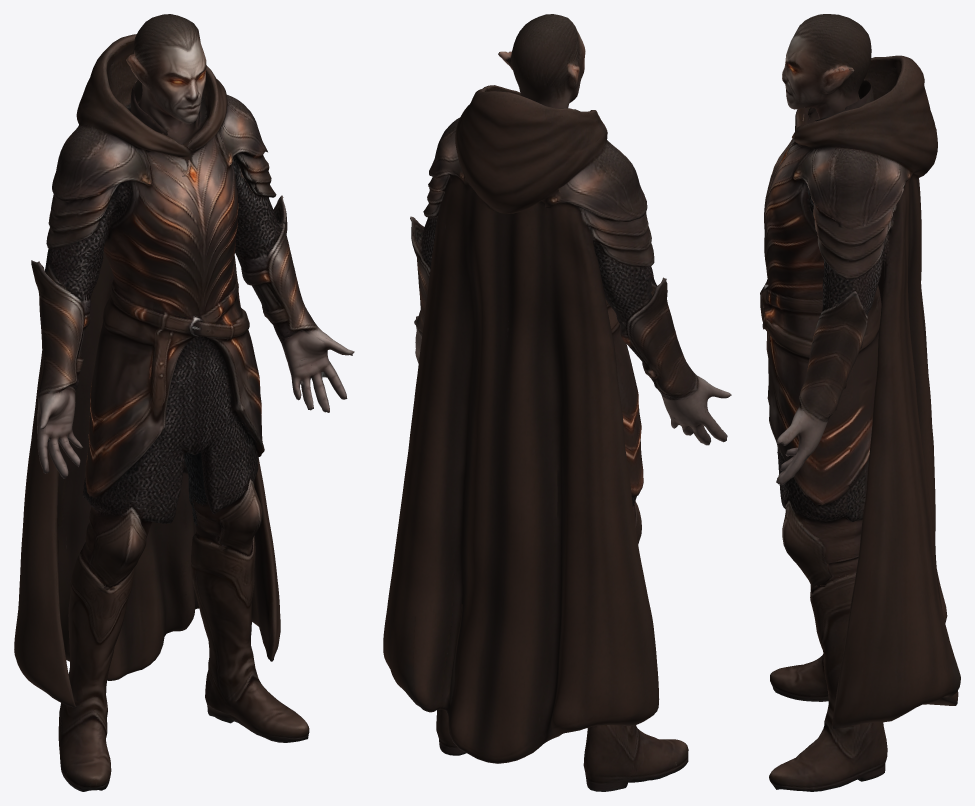
Rendered from kiln-warden-v3-weaponless.glb.
The picture shows the model from 3 angles, left to right: view 1: azimuth 30°, elevation 25°; view 2: azimuth 150°, elevation 25°; view 3: azimuth 270°, elevation 25°; orthographic projection.
Parts seen in each view (by area): view 1: mesh_node; view 2: mesh_node; view 3: mesh_node.
Boxes of the visible parts, x1,y1,x2,y2 form: mesh_node: (14, 14, 354, 791); mesh_node: (383, 14, 731, 791); mesh_node: (760, 14, 960, 791).
Bounding box in the file's own units: 0.8586 × 1.9 × 0.4809.
1 material, 1 textured.
